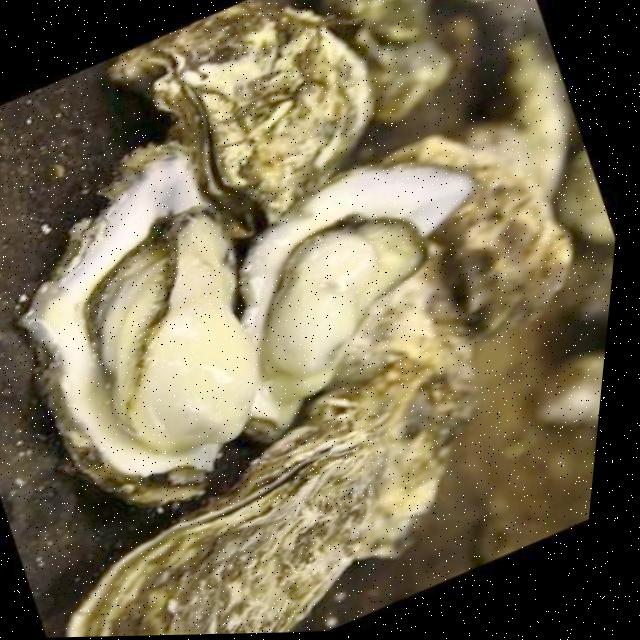Oyster-Closed: (65, 426, 378, 637), (121, 2, 372, 223)
Oyster-Indeterminate: (367, 129, 585, 349), (332, 242, 474, 420), (348, 351, 462, 558), (329, 31, 471, 119), (305, 0, 466, 51), (533, 348, 605, 429)
Oyster-Open: (19, 145, 261, 506), (247, 168, 474, 442), (291, 378, 373, 432)
